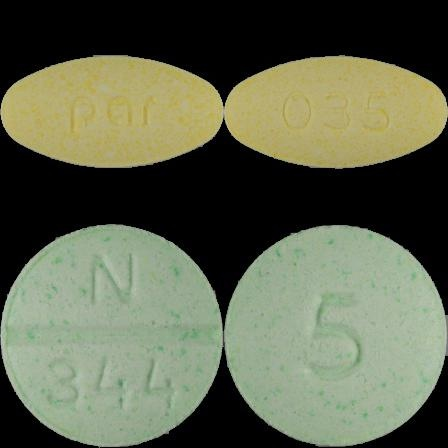0615-1554: (0, 0, 224, 224)
